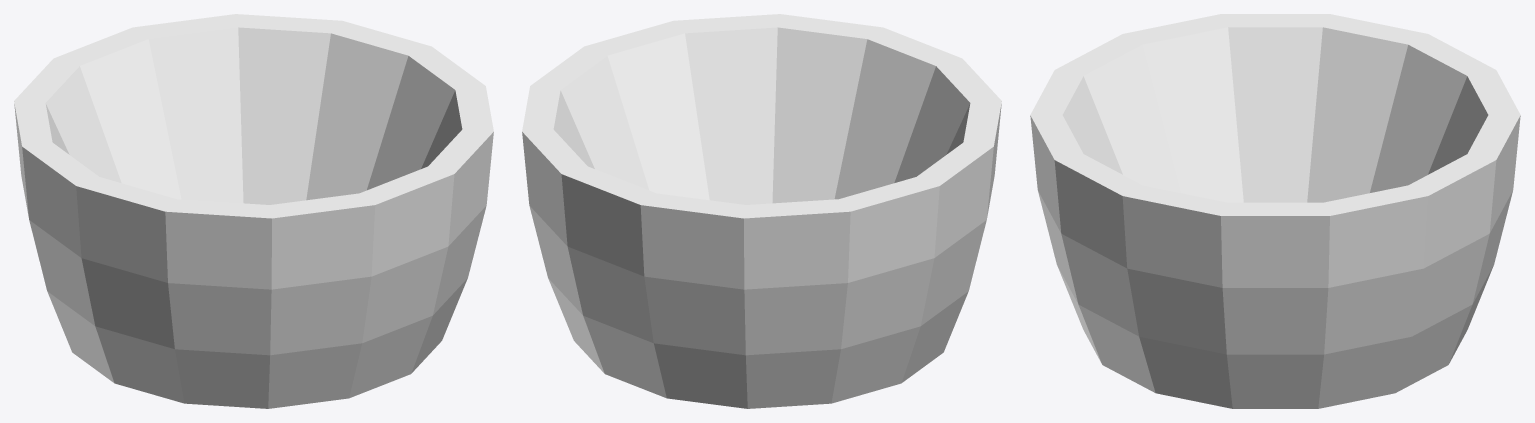
The model's file is Deep Dish_1.fbx.
The picture shows the model from 3 angles, left to right: view 1: azimuth 30°, elevation 25°; view 2: azimuth 150°, elevation 25°; view 3: azimuth 270°, elevation 25°; orthographic projection.
Visible parts, largest first — view 1: Deep Dish_1; view 2: Deep Dish_1; view 3: Deep Dish_1.
Boxes of the visible parts, left/top/right/bottom form: Deep Dish_1: left=14, top=14, right=493, bottom=408; Deep Dish_1: left=522, top=14, right=1001, bottom=408; Deep Dish_1: left=1030, top=14, right=1520, bottom=408.
Bounding box in the file's own units: 0.1464 × 0.0726 × 0.1502.
